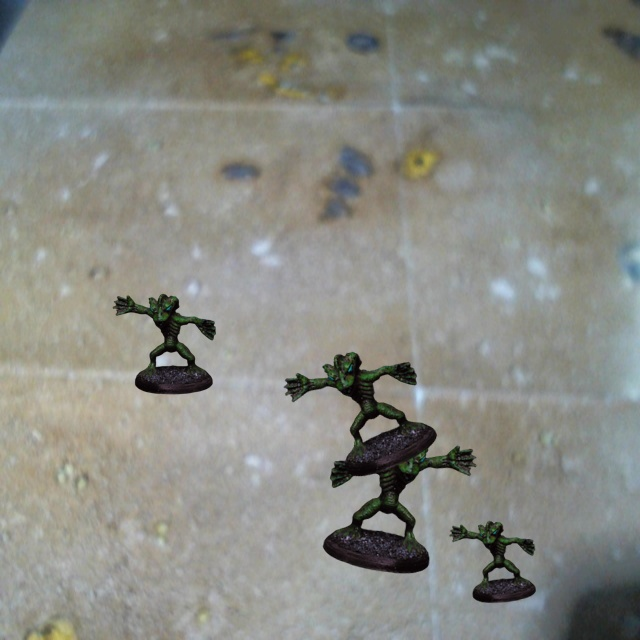pieza_juego: (323, 435, 476, 573), (284, 352, 436, 475), (113, 294, 215, 394), (449, 521, 535, 602)
